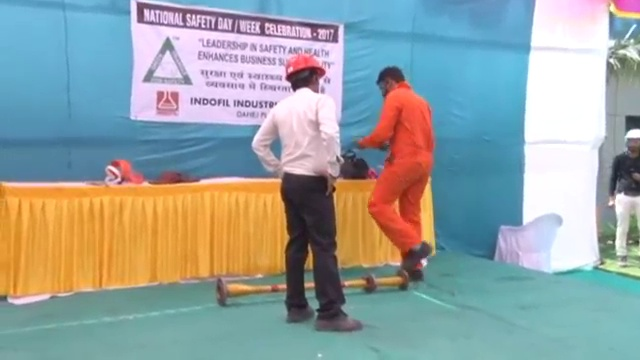helmet: (283, 53, 326, 80), (623, 127, 640, 145)
helmet_off: (375, 66, 408, 96)
helmet_on: (284, 55, 326, 95), (625, 129, 640, 161)
person: (250, 54, 364, 330), (355, 67, 433, 285), (606, 129, 640, 269)
